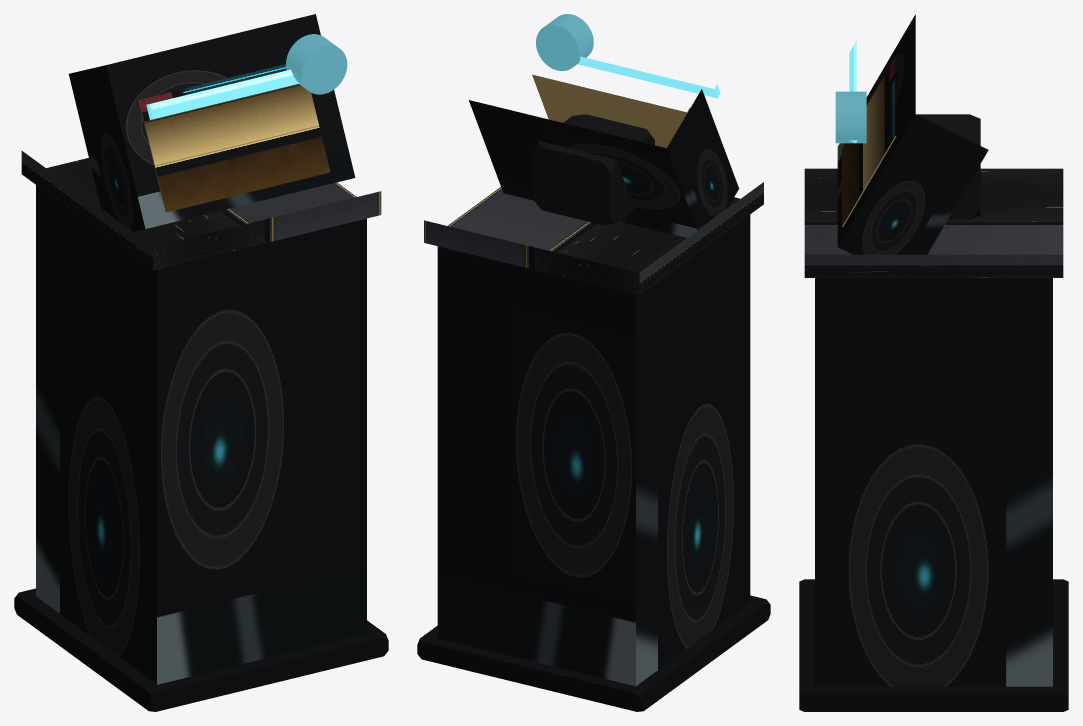
The model's file is room_l3_img2_label_terminal.glb.
3 renders of one model, left to right at view 1: azimuth 30°, elevation 25°; view 2: azimuth 150°, elevation 25°; view 3: azimuth 270°, elevation 25°, orthographic. The views are drawn at different scales.
Parts seen in each view (by area): view 1: pedestal, head, label_panel, collar, base_plate, camera_lens, scanner_strip; view 2: pedestal, head, collar, base_plate, neck, label_panel, camera_lens, scanner_strip; view 3: pedestal, collar, head, base_plate, label_panel, neck, camera_lens.
Part boxes in pixels (bbox=[...]): pedestal: bbox=[36, 185, 366, 684]; head: bbox=[68, 14, 355, 231]; label_panel: bbox=[138, 64, 330, 212]; collar: bbox=[21, 151, 381, 270]; base_plate: bbox=[14, 588, 388, 711]; camera_lens: bbox=[286, 34, 347, 94]; scanner_strip: bbox=[146, 69, 298, 119]; pedestal: bbox=[437, 214, 750, 686]; head: bbox=[469, 89, 739, 237]; collar: bbox=[424, 182, 763, 295]; base_plate: bbox=[417, 595, 770, 711]; neck: bbox=[533, 114, 654, 224]; label_panel: bbox=[532, 74, 690, 147]; camera_lens: bbox=[536, 14, 593, 70]; scanner_strip: bbox=[577, 56, 720, 98]; pedestal: bbox=[815, 278, 1052, 686]; collar: bbox=[804, 168, 1063, 277]; head: bbox=[837, 14, 988, 254]; base_plate: bbox=[799, 579, 1068, 711]; label_panel: bbox=[842, 57, 896, 227]; neck: bbox=[916, 114, 980, 219]; camera_lens: bbox=[835, 91, 866, 143].
Size of the model in its own units: 0.52 by 1.27 by 0.52.
6 materials, 6 textured.
